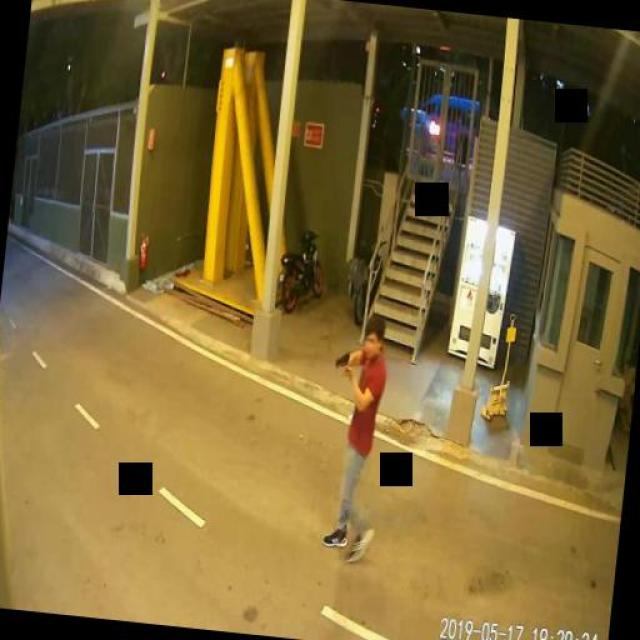gun: (334, 348, 350, 374)
